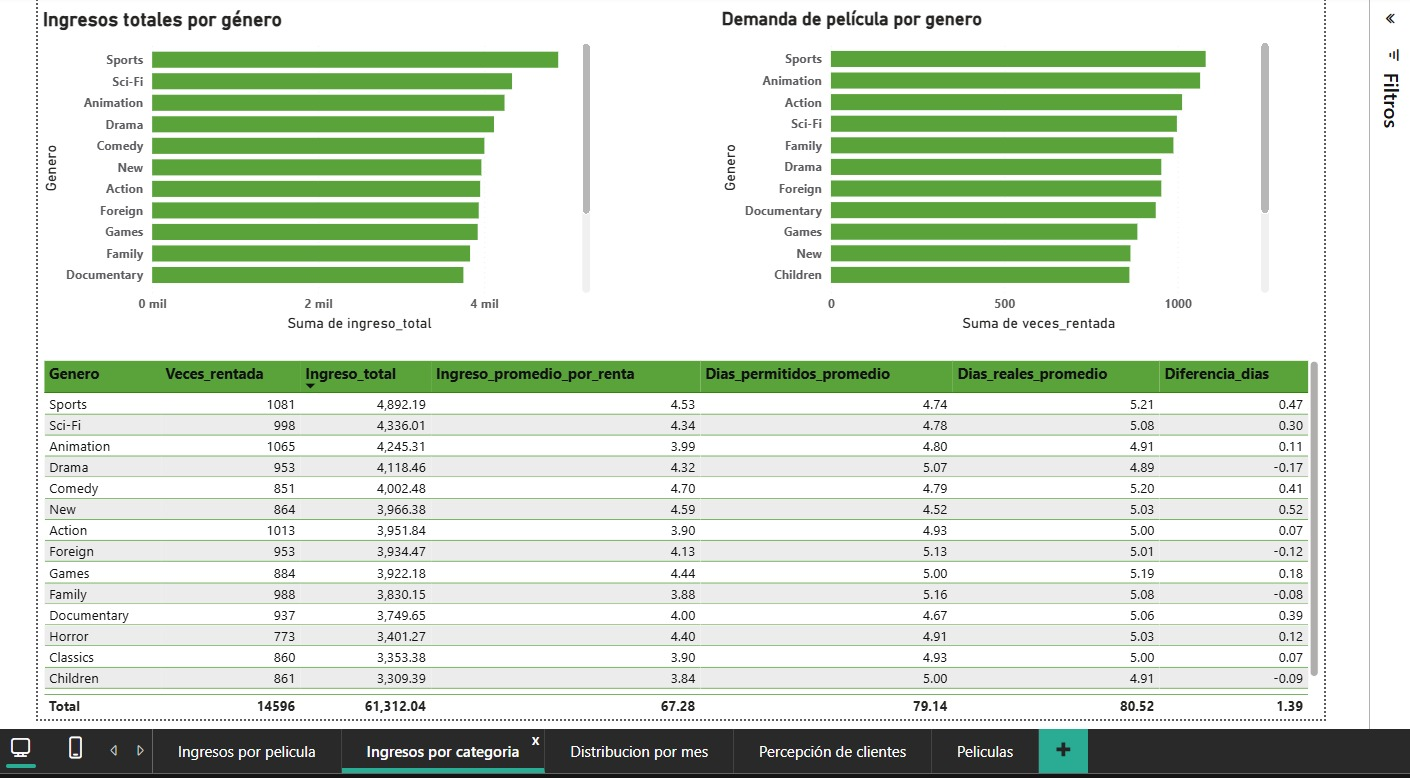

Layout of this report page (visuals, bound fields, positions):
{"tool":"powerbi","page":{"name":"Página 1","canvas":[1280,720],"ordinal":0},"visuals":[{"type":"clusteredBarChart","title":"Ingresos totales por género","fields":{"Category":["Consulta2.genero"],"Y":["Sum(Consulta2.ingreso_total)"]},"box":[0,12.4,554.8,325.9],"z":0},{"type":"tableEx","fields":{"Values":["Consulta2.genero","Sum(Consulta2.veces_rentada)","Sum(Consulta2.ingreso_total)","Sum(Consulta2.ingreso_promedio_por_renta)","Sum(Consulta2.dias_permitidos_promedio)","Sum(Consulta2.dias_reales_promedio)","Sum(Consulta2.diferencia_dias)"]},"box":[0,358.3,1280,325.9],"z":1000},{"type":"clusteredBarChart","title":"Demanda de película por genero","fields":{"Category":["Consulta2.genero"],"Y":["Sum(Consulta2.veces_rentada)"]},"box":[675.5,12.4,554.8,325.9],"z":2000}]}

Visuals, with their boxes on the page's 1280x720 design canvas (x1, y1, x2, y2). These are canvas units, not pixel positions in the 1410x778 screenshot, which may show the page scaled, cropped or inside an application window:
"Ingresos totales por género" clusteredBarChart: bbox=[0, 12, 555, 338]
tableEx - Consulta2.genero x Sum(Consulta2.veces_rentada): bbox=[0, 358, 1280, 684]
"Demanda de película por genero" clusteredBarChart: bbox=[676, 12, 1230, 338]
